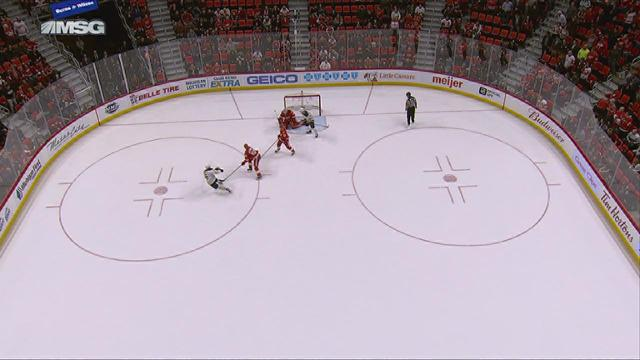geico: (245, 71, 301, 87)
